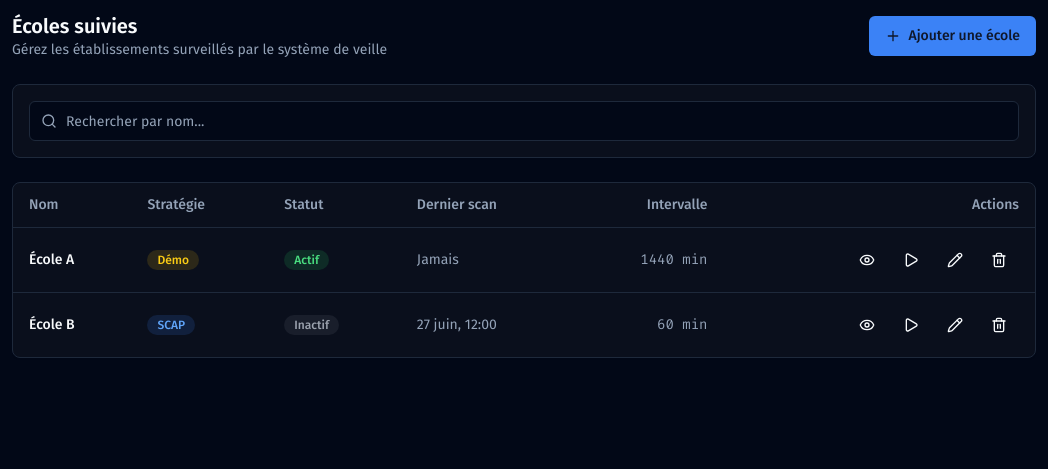
Test case: SchoolsPage › shows error feedback when scan returns status "error"
The image size is (1048, 469).
Expected: the text "École A" is shown, [13,228,131,292]
Note: Click scan button
What coordinates should you click on to do the following:
click the button titled "Lancer un scan" in the row of "École A"
I would click on:
 (911, 260)
Its box is [891,240,931,280].
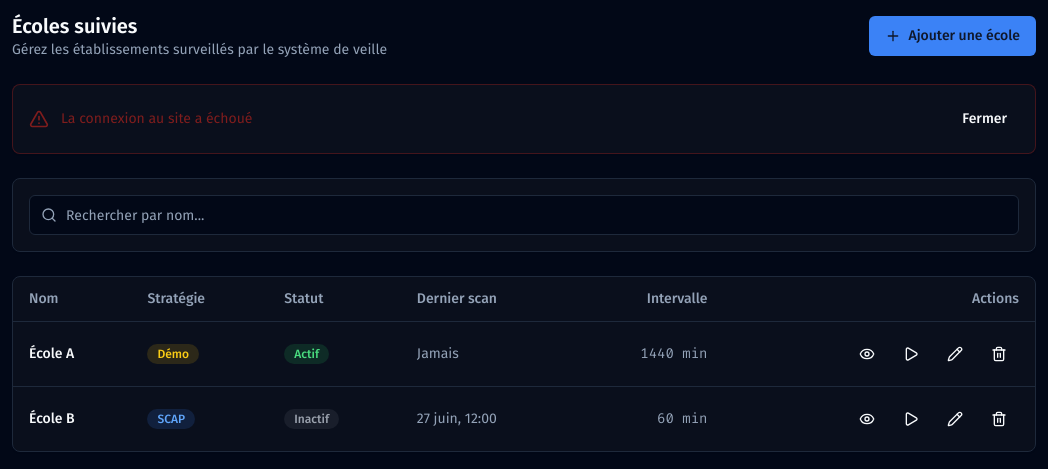
Result: the text "La connexion au site a échoué" is shown at [61,109,252,129]
